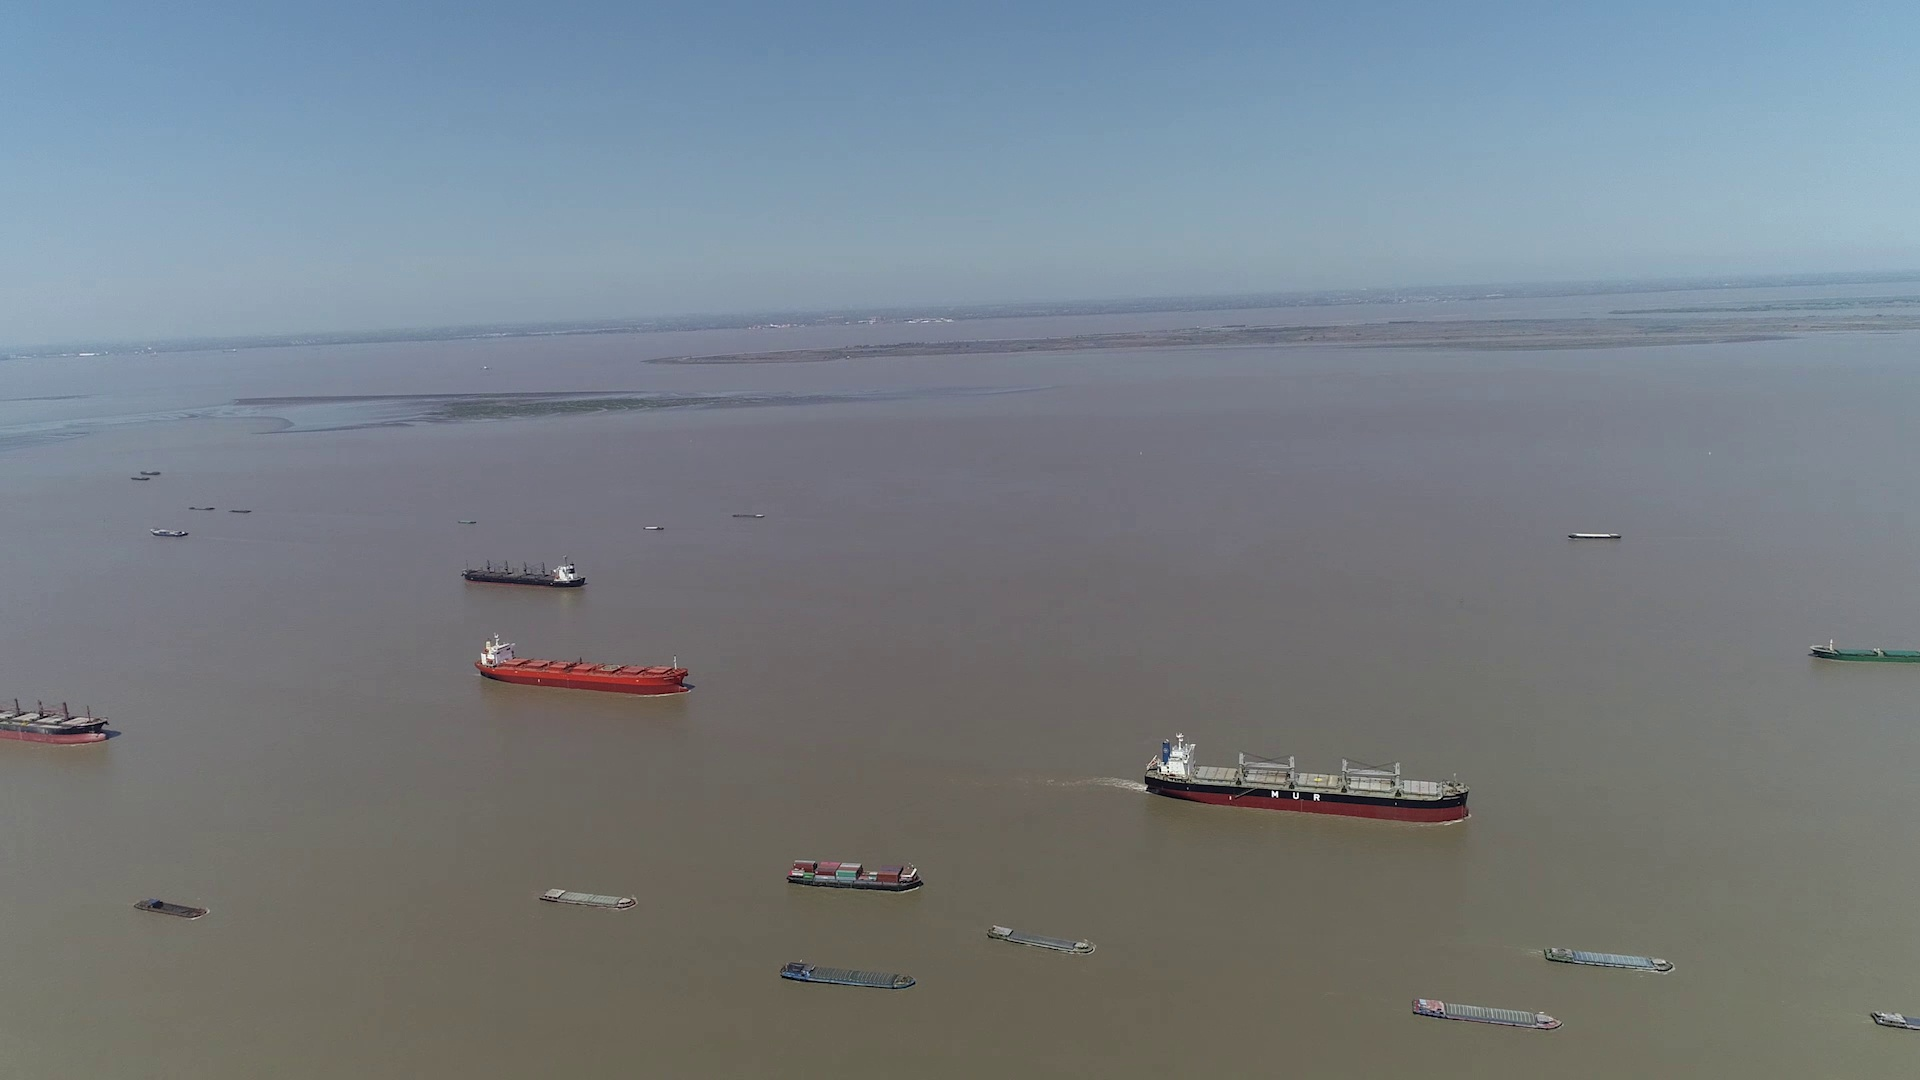ship: (1145, 733, 1470, 822), (476, 633, 687, 696), (1, 680, 112, 745), (1412, 998, 1563, 1031), (785, 857, 923, 891), (779, 960, 916, 992), (462, 556, 585, 588), (1543, 945, 1672, 975), (986, 924, 1096, 955), (1809, 640, 1919, 665), (541, 886, 636, 909), (135, 897, 207, 920), (1869, 1010, 1917, 1034), (1571, 531, 1619, 541), (152, 527, 189, 538)
